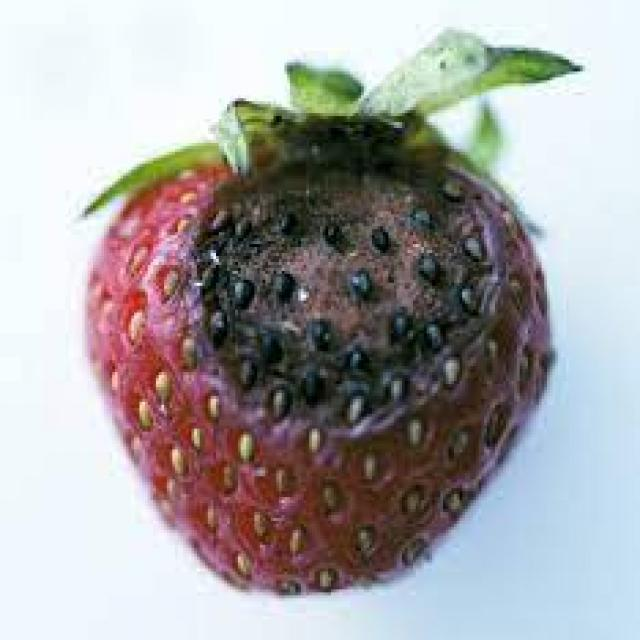Mancha negra Antracnosis: (72, 114, 558, 594)
